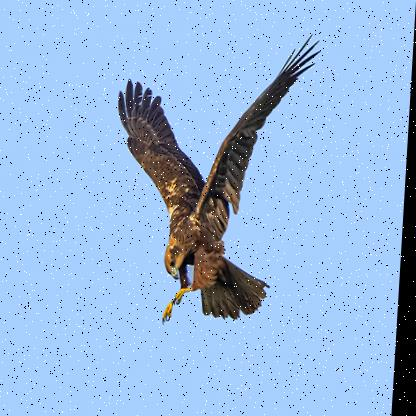Burung: (110, 30, 325, 323)
